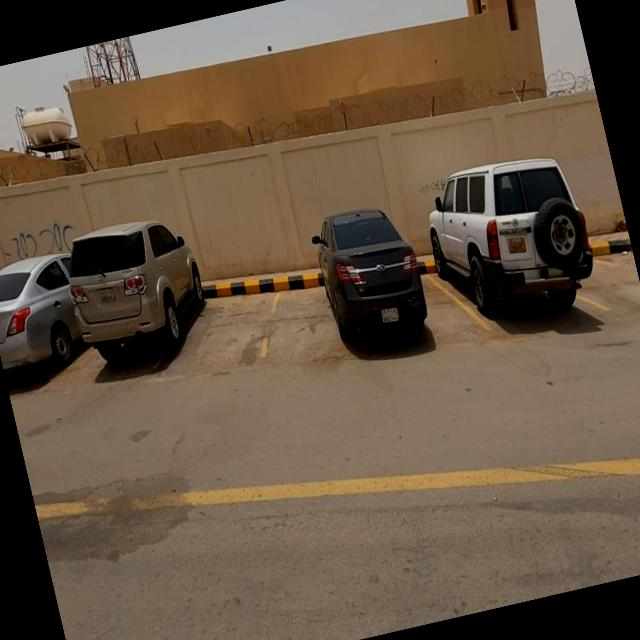debris: (0, 161, 147, 334)
